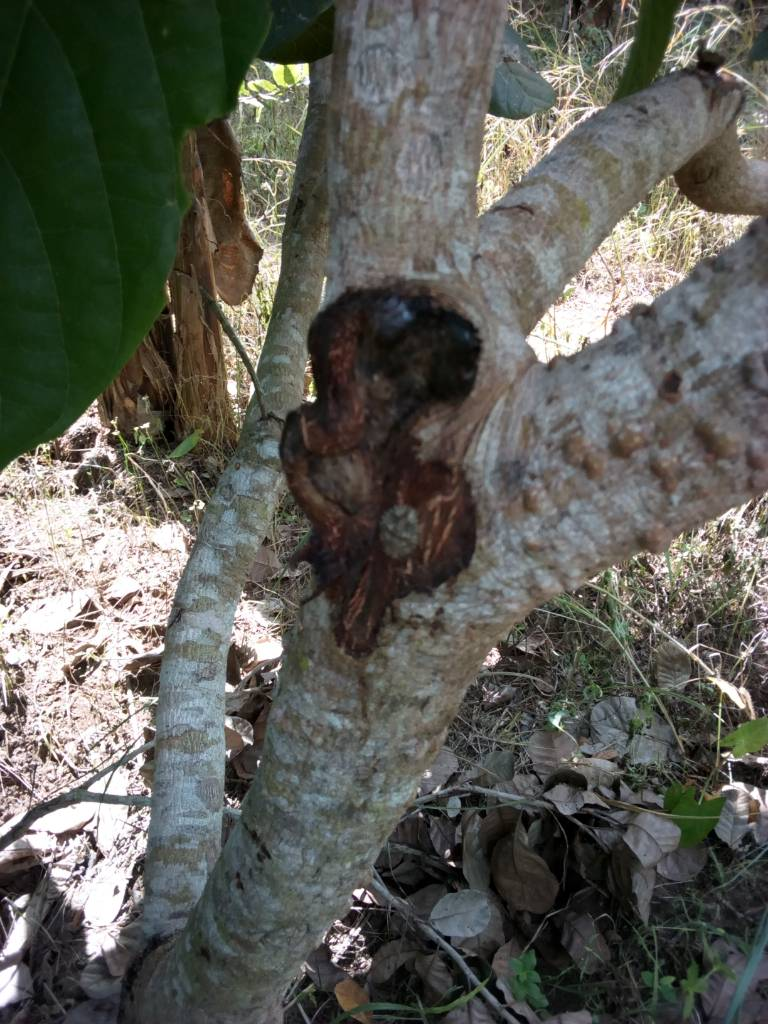ploceadorus ferrugineus: (254, 269, 518, 666)
